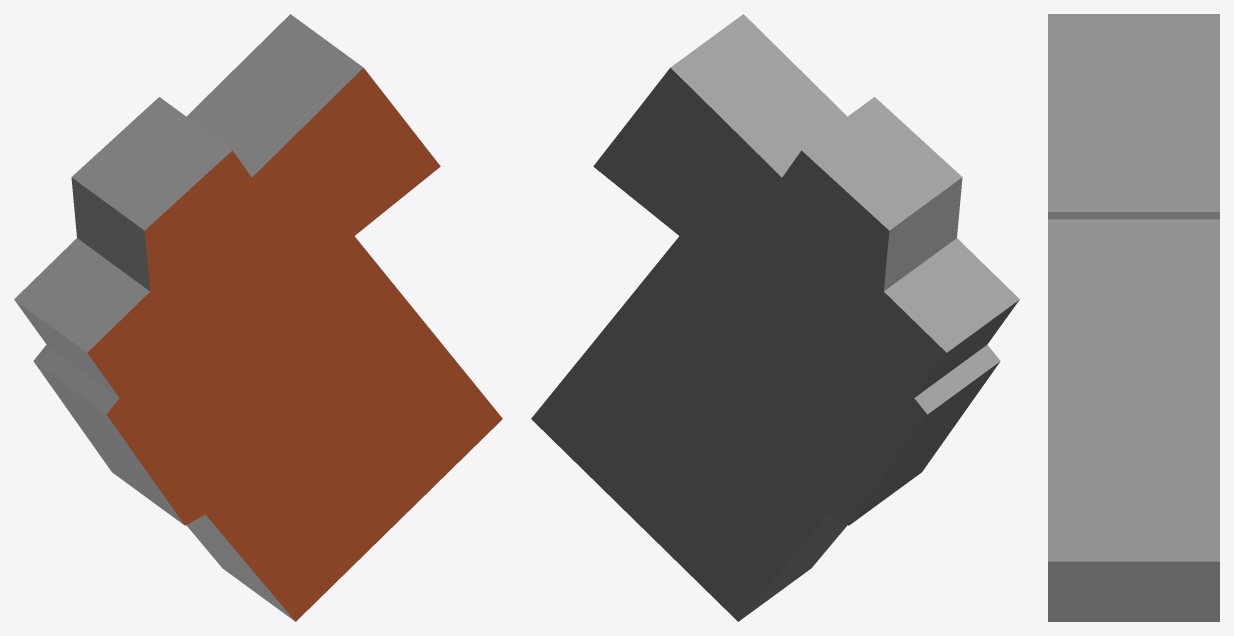
File: construction_5132_assumed_A_Casa_h6m.obj
The picture shows the model from 3 angles, left to right: view 1: azimuth 30°, elevation 25°; view 2: azimuth 150°, elevation 25°; view 3: azimuth 270°, elevation 25°; orthographic projection. The views are drawn at different scales.
Visible parts, largest first — view 1: construction_5132_assumed_A_Casa; view 2: construction_5132_assumed_A_Casa; view 3: construction_5132_assumed_A_Casa.
Part boxes in pixels (box(x1,y1,x2,y2)): construction_5132_assumed_A_Casa: box(14, 14, 502, 621); construction_5132_assumed_A_Casa: box(531, 14, 1019, 621); construction_5132_assumed_A_Casa: box(1048, 14, 1219, 621).
Size of the model in its own units: 19.68 by 24.32 by 6.
